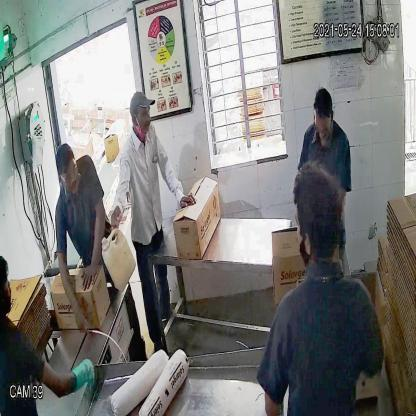goggles: (59, 165, 81, 184)
no_goggles: (129, 106, 151, 122)
